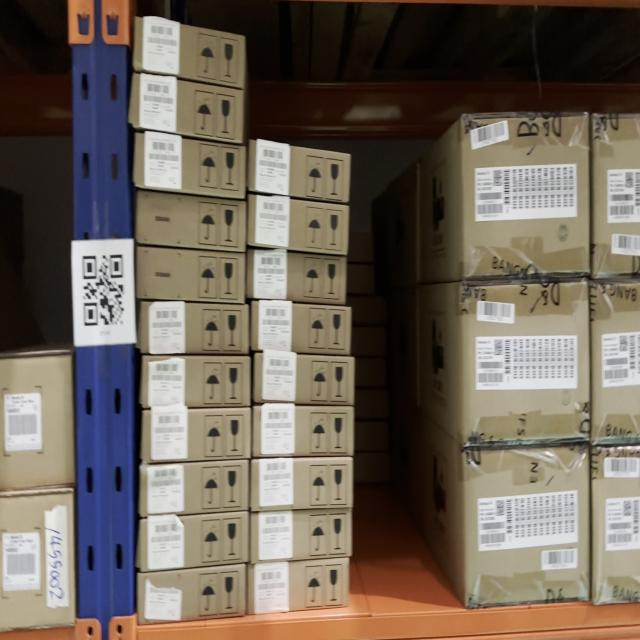box: (467, 118, 591, 275), (468, 285, 590, 443), (467, 451, 589, 599), (128, 74, 238, 137), (136, 20, 242, 85), (136, 134, 243, 194), (137, 188, 244, 248), (250, 192, 349, 253), (251, 143, 348, 203), (138, 248, 246, 301), (143, 413, 250, 460), (140, 516, 247, 562), (144, 305, 248, 351), (250, 251, 342, 302), (255, 358, 353, 405), (142, 361, 248, 404), (140, 575, 245, 618), (142, 467, 248, 509), (255, 411, 351, 454), (252, 308, 348, 349), (254, 566, 347, 608), (252, 516, 350, 552), (254, 464, 351, 500)
